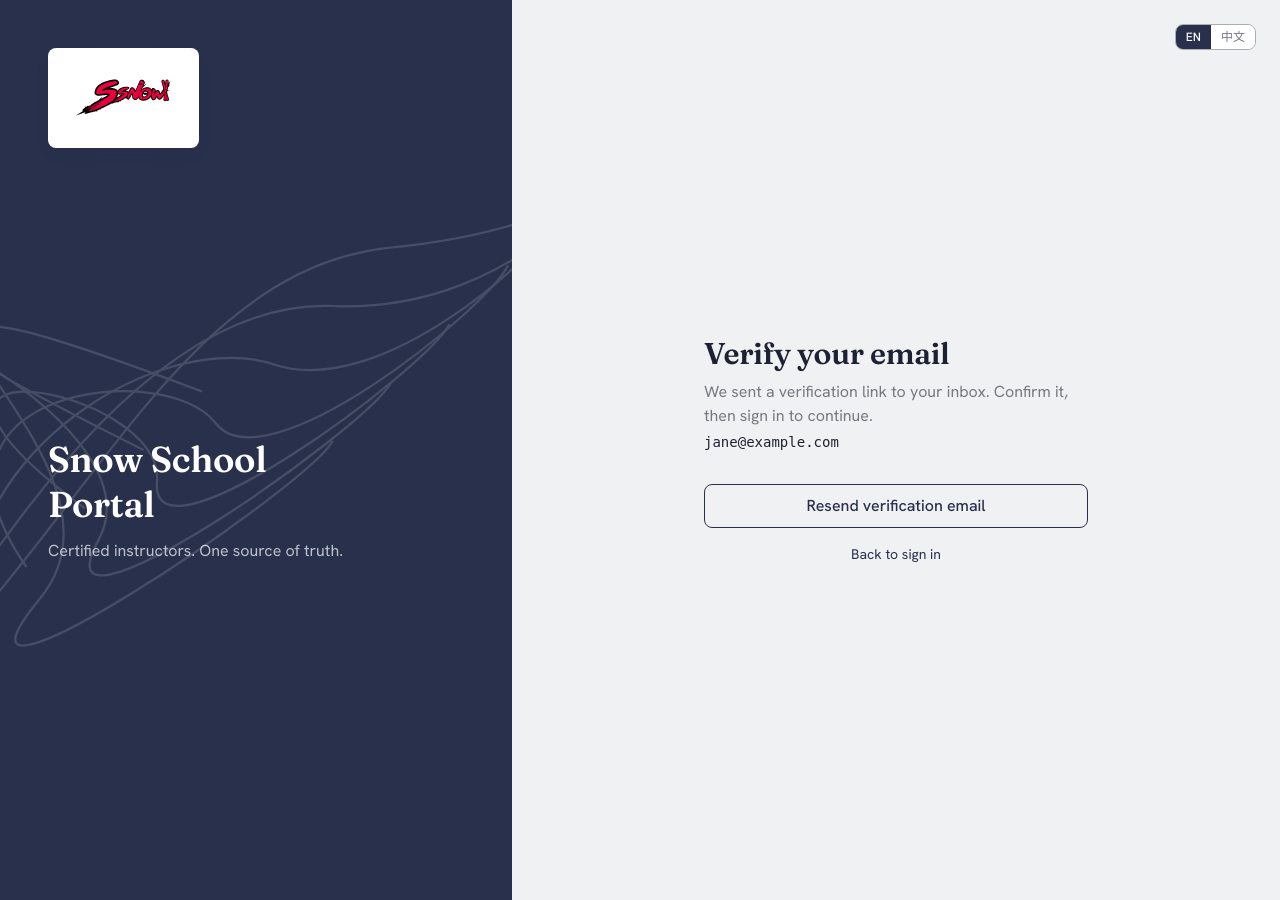
it: VerifyEmailPage › counts down from the wait Supabase reports when it rate-limits
Click the button named "Resend verification email" at (896, 506), box [704,484,1088,528]
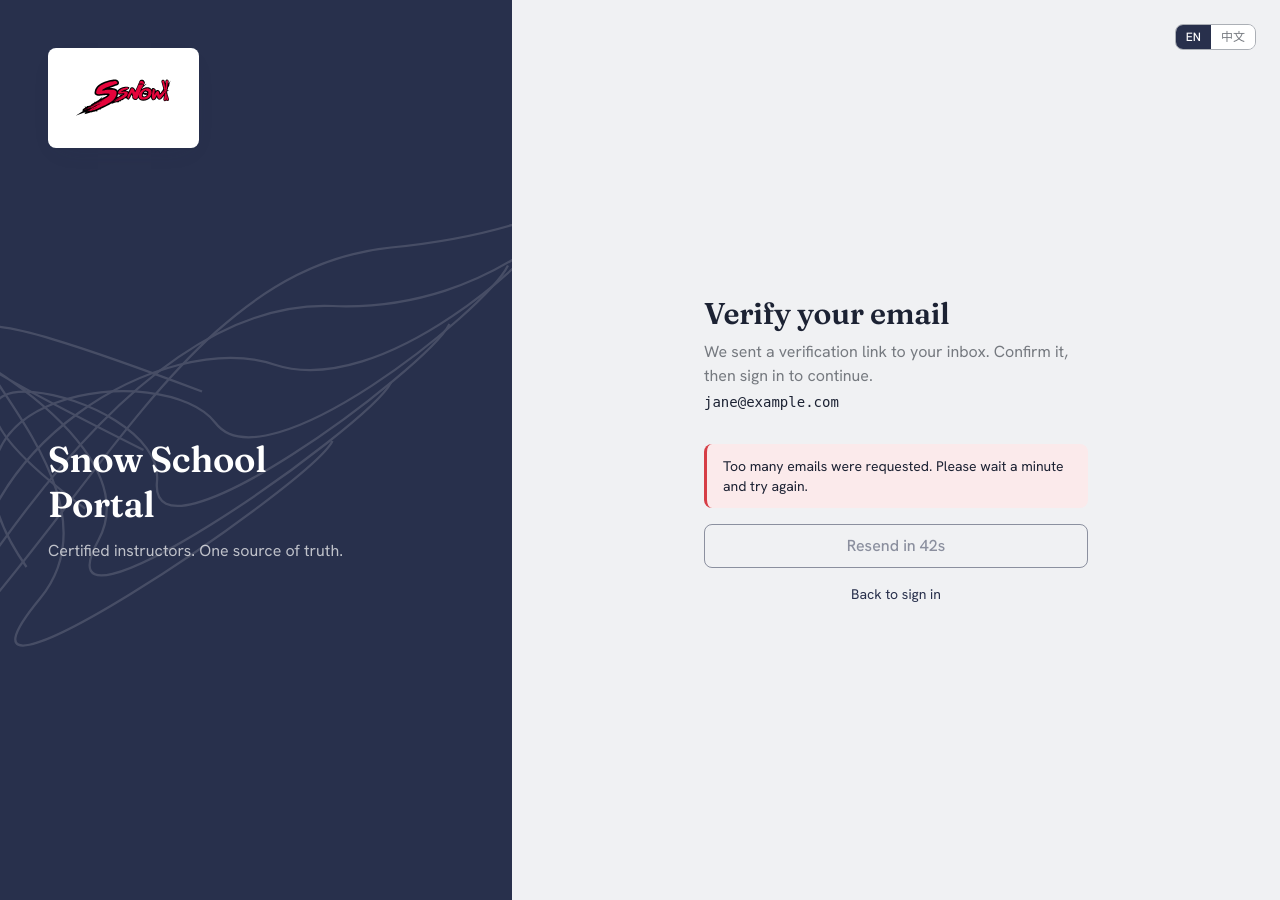
Now the text "Too many emails were requested. Please wait a minute and try again." is shown, box [723,456,1072,496]
Now the 3rd button is disabled, box [704,524,1088,568]
